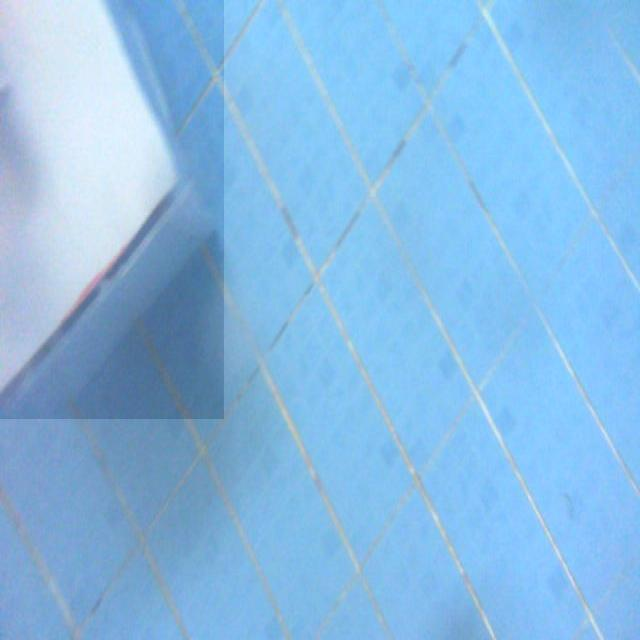Cube: (0, 0, 224, 419)
